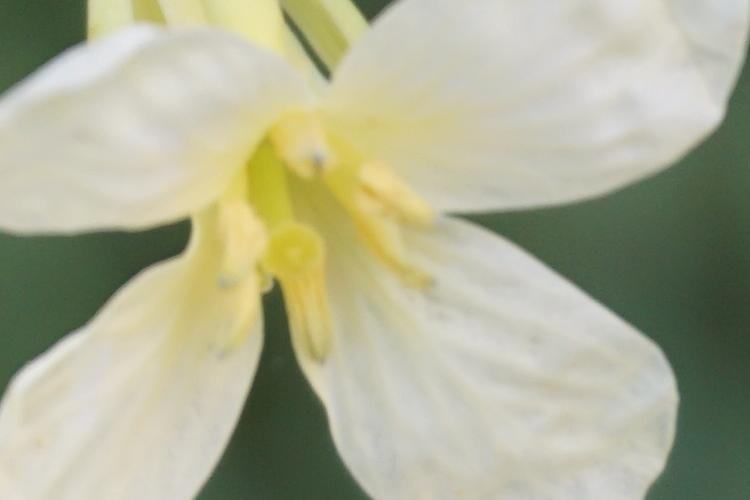white: (5, 15, 690, 500)
